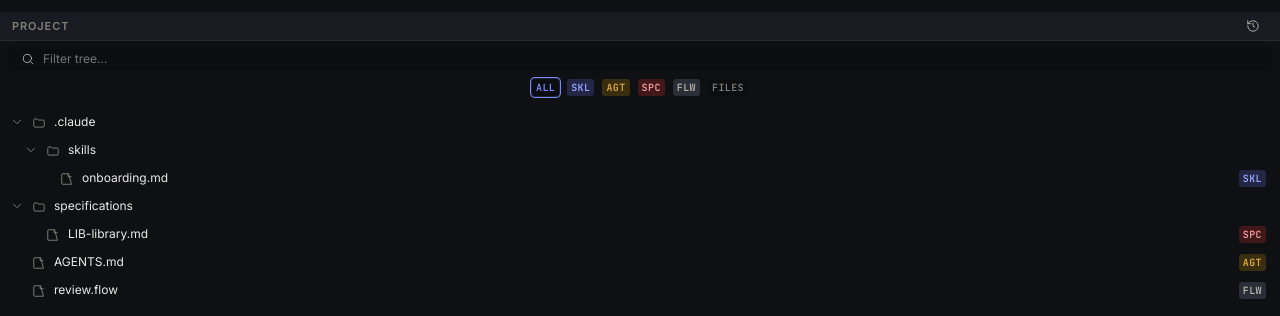
Library filesystem tree › submits the rename from its button under a real press
Right-click the text "onboarding.md" at point(125, 178), box [82,170,168,185]
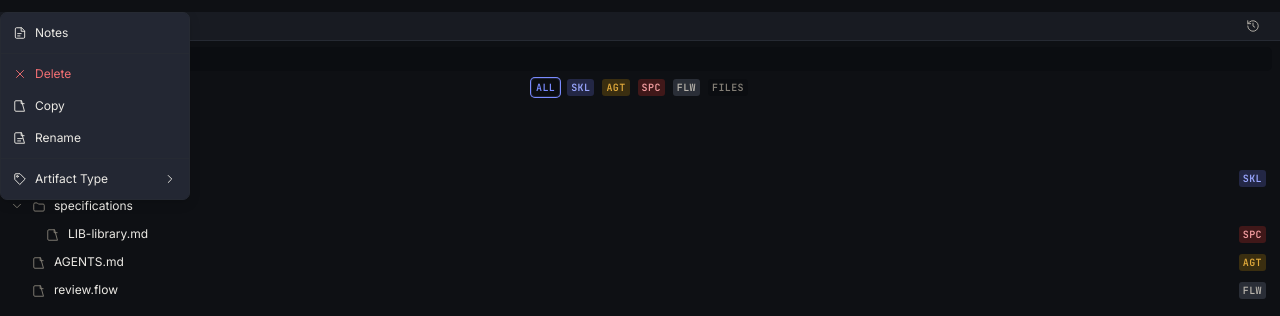
Click the text "Rename" at point(47, 138), box [13,130,81,145]
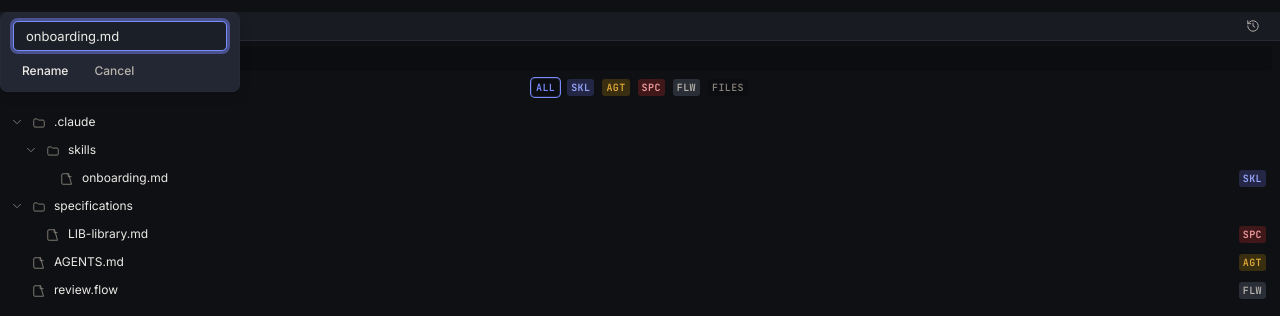
Replace the text in the field named "New name" with "welcome.md" at point(120, 36), box [13,21,227,51]
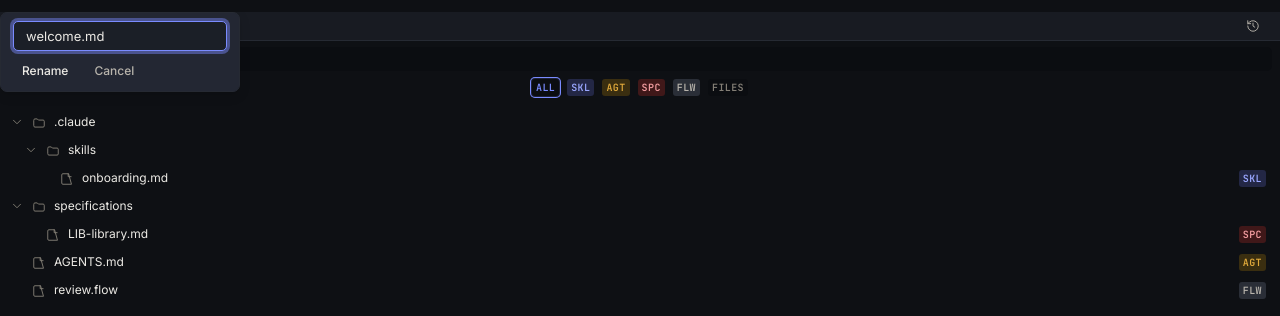
Click the button "Rename" at point(45, 71), box [13,59,77,83]
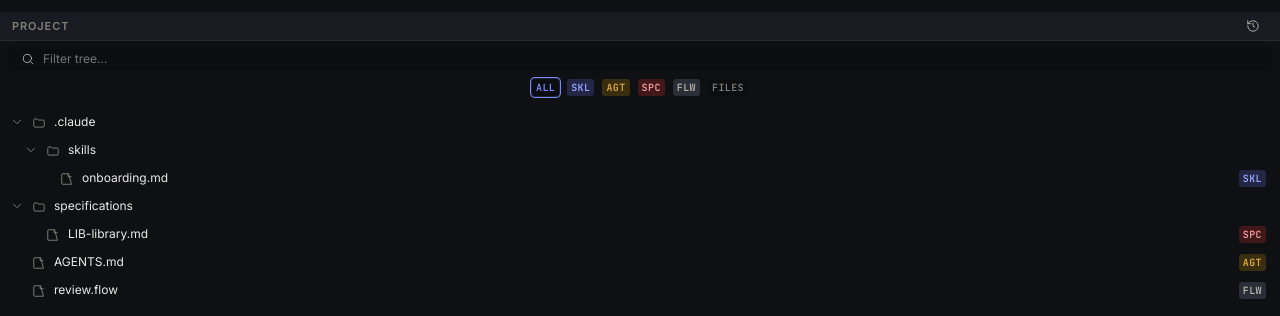
Result: the element with class "menu" is gone
